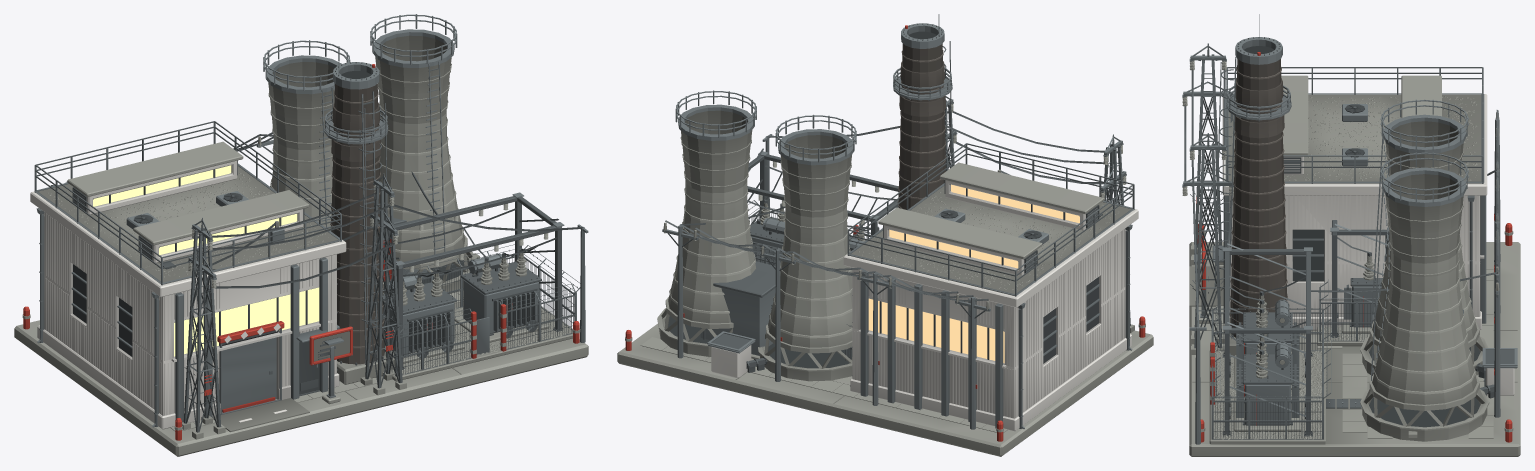
The model's file is power-station-near.glb.
3 renders of one model, left to right at view 1: azimuth 30°, elevation 25°; view 2: azimuth 150°, elevation 25°; view 3: azimuth 270°, elevation 25°, orthographic. The views are drawn at different scales.
Visible parts, largest first — view 1: PowerNear, BareNear, StackColdNear; view 2: PowerNear, BareNear, StackColdNear; view 3: PowerNear, BareNear, StackColdNear.
Part boxes in pixels (left/top/right/bottom): PowerNear: left=30, top=14, right=588, bottom=439; BareNear: left=14, top=108, right=588, bottom=456; StackColdNear: left=324, top=52, right=395, bottom=384; PowerNear: left=657, top=90, right=1138, bottom=431; BareNear: left=617, top=148, right=1153, bottom=456; StackColdNear: left=893, top=14, right=952, bottom=209; PowerNear: left=1182, top=43, right=1517, bottom=444; BareNear: left=1189, top=110, right=1520, bottom=456; StackColdNear: left=1214, top=14, right=1291, bottom=355.
Size of the model in its own units: 16.8 by 12.8 by 11.64.
